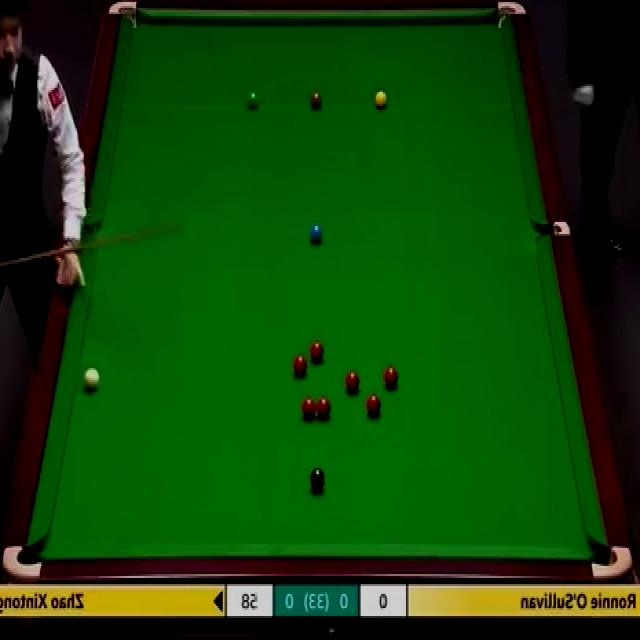black-ball: (309, 467, 325, 493)
blue-ball: (310, 224, 323, 242)
brown-ball: (310, 92, 323, 109)
green-ball: (244, 88, 258, 112)
red-ball: (315, 394, 333, 418), (366, 393, 381, 418), (301, 393, 315, 418), (310, 339, 324, 364), (345, 369, 359, 394), (294, 352, 307, 376), (383, 366, 398, 386)
white-ball: (83, 366, 102, 392)
yellow-ball: (374, 90, 388, 109)
